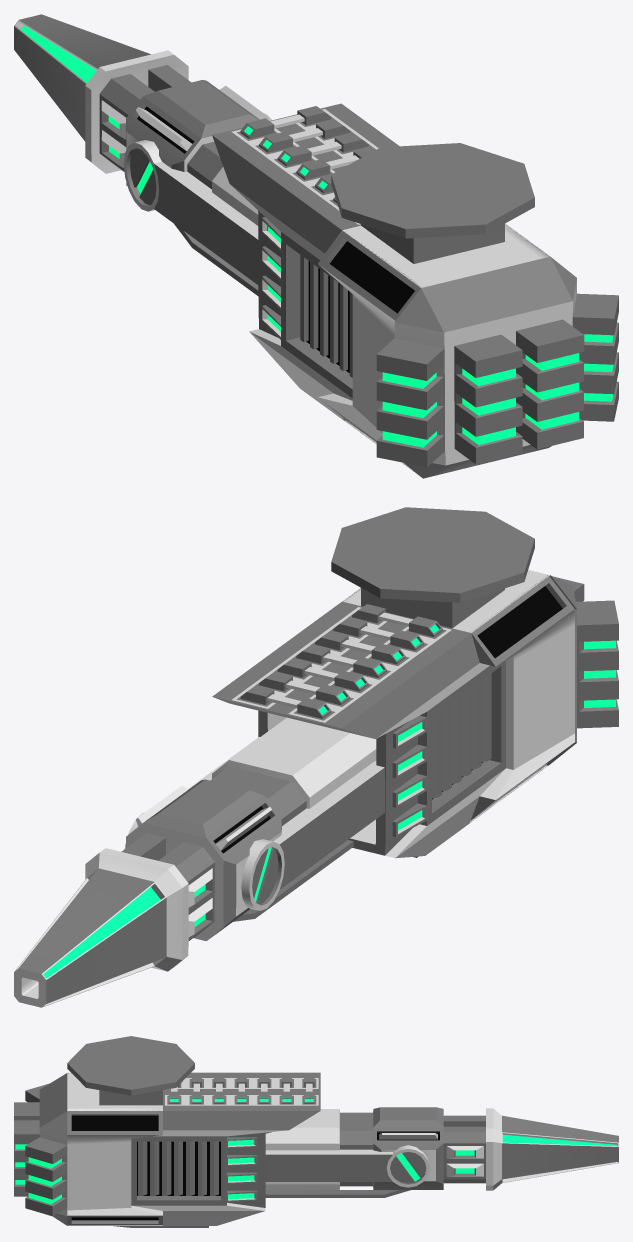
File: LaserCannon T1_2.fbx
3 views of the same model, one above another, from view 1: azimuth 30°, elevation 25°; view 2: azimuth 150°, elevation 25°; view 3: azimuth 270°, elevation 25° (orthographic). The views are drawn at different scales.
Visible parts, largest first — view 1: Main, Mount, Detail; view 2: Main, Mount, Detail; view 3: Main, Mount, Detail.
Part boxes in pixels (x1,y1,x2,y2): Main: (14,14,618,478); Mount: (331,143,534,263); Detail: (123,113,270,284); Main: (14,570,618,1007); Mount: (331,507,534,628); Detail: (124,737,384,910); Main: (14,1072,618,1227); Mount: (67,1036,194,1105); Detail: (265,1145,429,1187).
Bounding box in the file's own units: 265 × 261 × 948.
